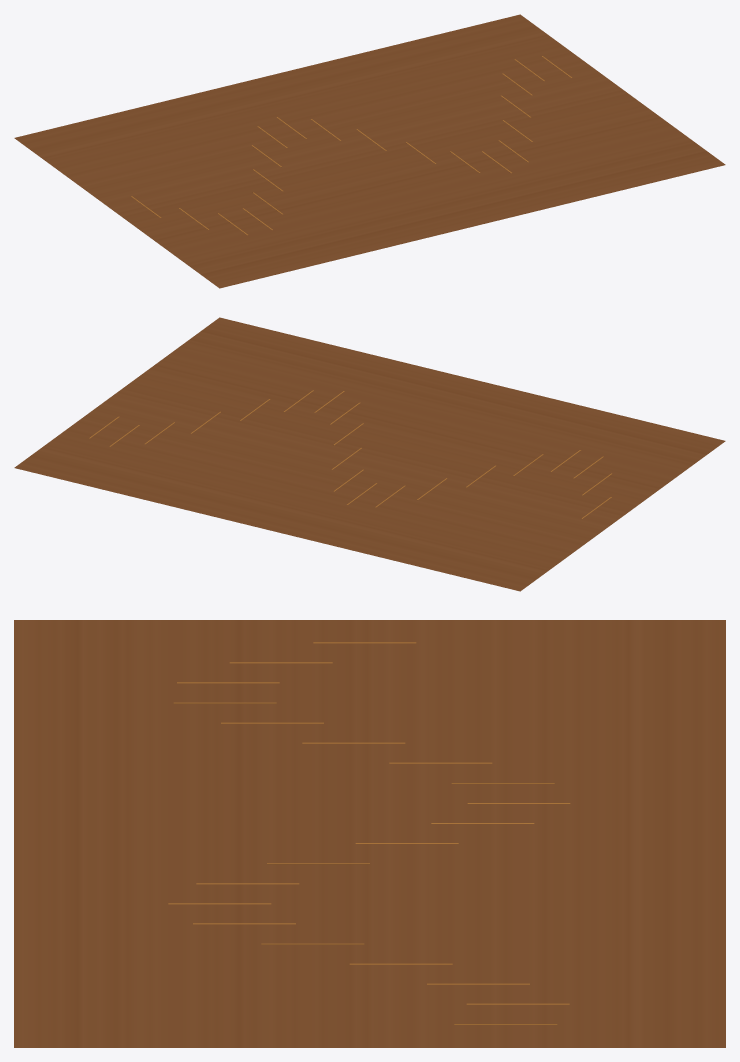
The model's file is 258_L118_L21_LayerReference.obj.
3 views of the same model, one above another, from view 1: azimuth 30°, elevation 25°; view 2: azimuth 150°, elevation 25°; view 3: azimuth 270°, elevation 25° (orthographic). The views are drawn at different scales.
Visible parts, largest first — view 1: 258_L118_L21_LayerReference; view 2: 258_L118_L21_LayerReference; view 3: 258_L118_L21_LayerReference.
Boxes of the visible parts, x1,y1,x2,y2 form: 258_L118_L21_LayerReference: [14, 14, 725, 288]; 258_L118_L21_LayerReference: [14, 317, 725, 591]; 258_L118_L21_LayerReference: [14, 620, 725, 1047].
Bounding box in the file's own units: 0.472 × 0.000464 × 0.332.
2 materials, 2 textured.
